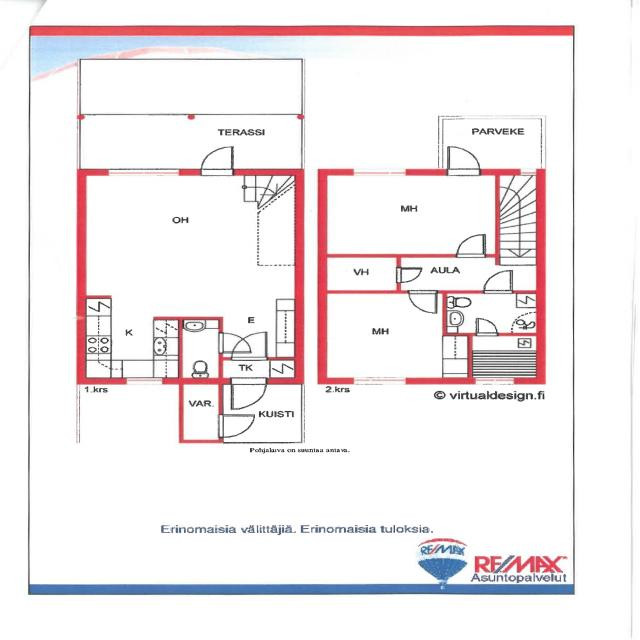door: (231, 378, 265, 408), (447, 146, 480, 175), (232, 332, 266, 360), (201, 147, 232, 175), (218, 415, 255, 437), (484, 270, 512, 294), (457, 234, 485, 257), (219, 333, 251, 353), (409, 290, 436, 313), (476, 318, 496, 336), (397, 268, 422, 282)
